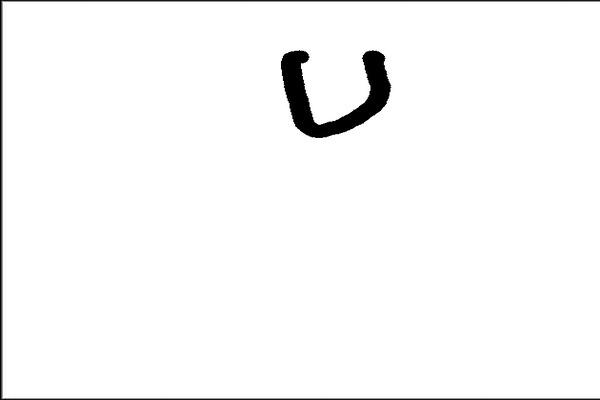U: (264, 38, 399, 137)
